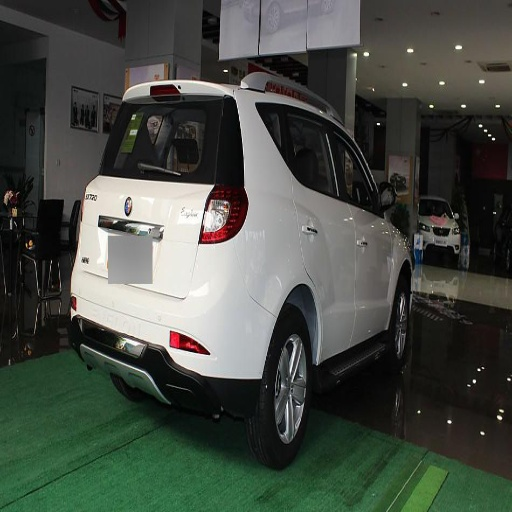back_bumper: (71, 238, 279, 413)
back_right_door: (291, 107, 353, 354)
tailgate: (83, 186, 200, 296)
trunk: (79, 229, 198, 318), (93, 177, 213, 235)
